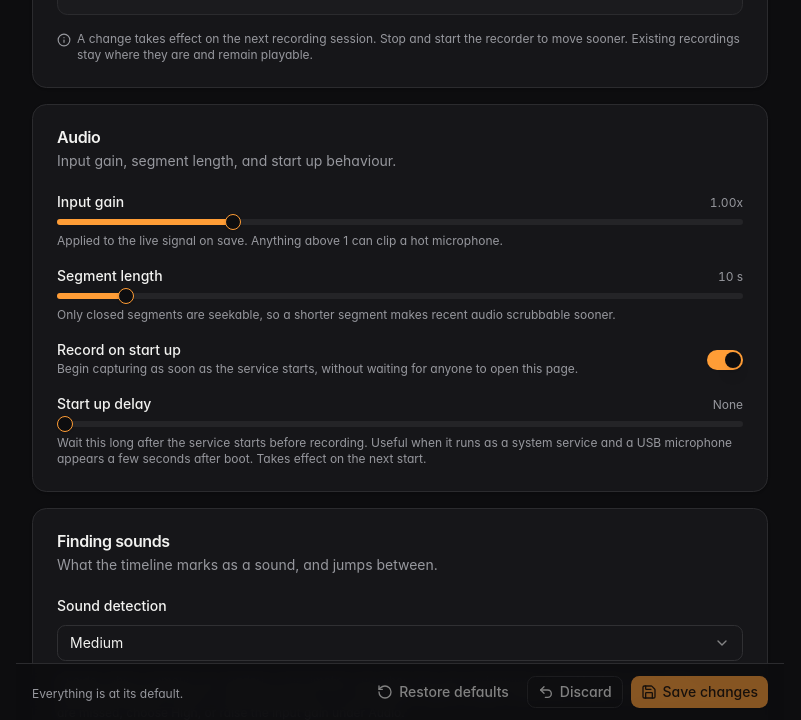
Test: the settings page › the one Save bar › puts every card back when the edits are discarded
(page scrolled)
Click the switch named "Record on start up": (725, 360) [707,350,743,370]
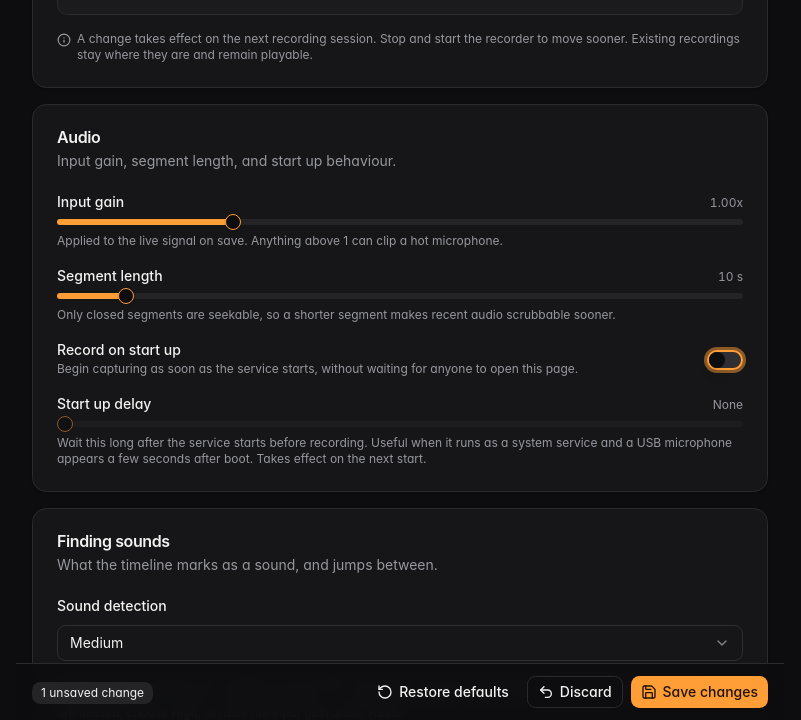
Click the button "Discard": (575, 692) [527,676,622,708]
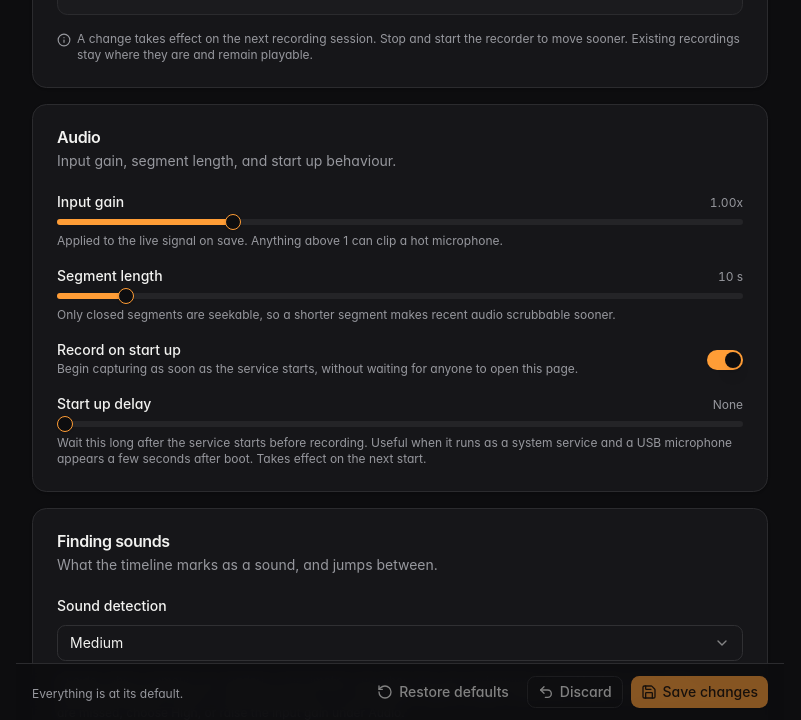
Expected: the switch named "Record on start up" is checked, [707,350,743,370]
Expected: the text "Everything is at its default." is shown, [32,686,183,701]
